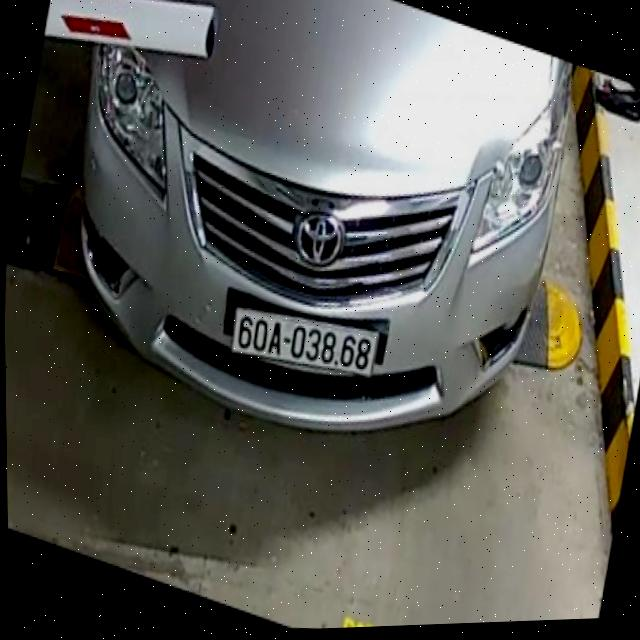car: (59, 0, 581, 459)
plate: (226, 298, 382, 389)
